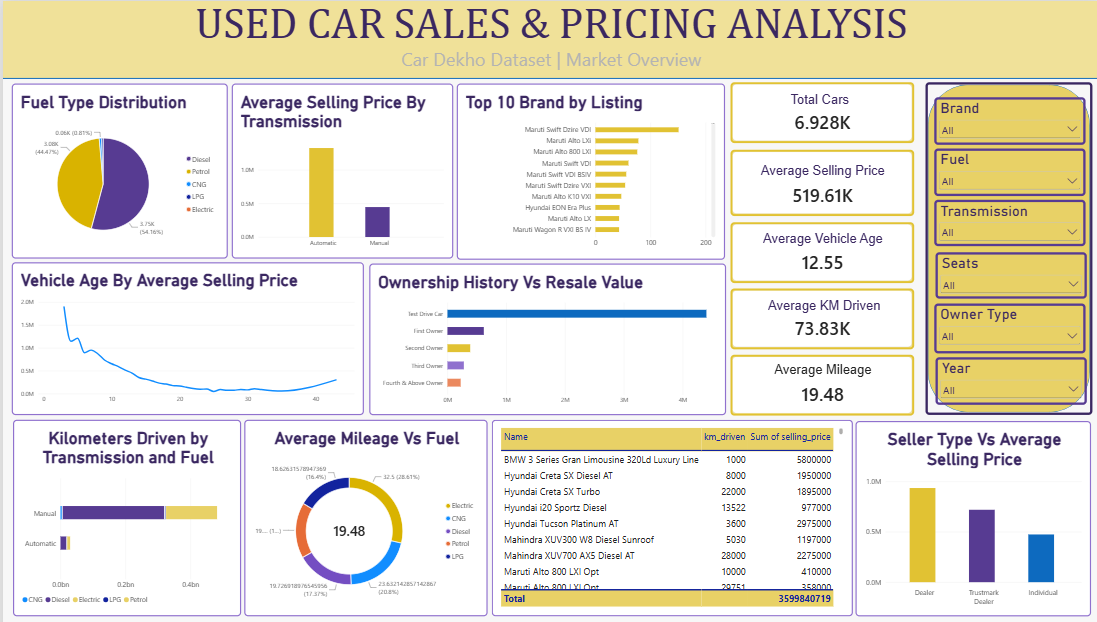

This screenshot's page, from the dashboard's own definition file:
{"tool":"powerbi","page":{"name":"Page 1","canvas":[2250,1300],"ordinal":0},"visuals":[{"type":"textbox","box":[0,0,2250.2,106.7],"z":0},{"type":"textbox","box":[0,91.5,2250.2,67.5],"z":1000},{"type":"cardVisual","fields":{"Data":["CountNonNull(Car_Dekho_cleaned (2).Name)"]},"box":[1493.2,167.5,376.4,124.9],"z":2000},{"type":"textbox","box":[1614.5,187.4,164.7,43.4],"z":3000},{"type":"cardVisual","fields":{"Data":["Avg(Car_Dekho_cleaned (2).selling_price)"]},"box":[1493.2,305.1,376.4,135.7],"z":4000},{"type":"textbox","box":[1505.9,334,352.9,81.4],"z":5000},{"type":"cardVisual","fields":{"Data":["Avg(Car_Dekho_cleaned (2).vehicle_age)"]},"box":[1493.2,453.4,376.4,124.9],"z":6000},{"type":"textbox","box":[1558.4,471.5,320.3,45.2],"z":7000},{"type":"cardVisual","fields":{"Data":["Avg(Car_Dekho_cleaned (2).km_driven)"]},"box":[1493.2,591,376.4,124.9],"z":8000},{"type":"textbox","box":[1569.2,610.9,300.4,43.4],"z":9000},{"type":"barChart","title":"Top 10 Brand by Listing","fields":{"Category":["Car_Dekho_cleaned (2).Name"],"Y":["CountNonNull(Car_Dekho_cleaned (2).Name)"]},"box":[931.8,168.2,550,361.4],"z":10000},{"type":"pieChart","title":"Fuel Type Distribution","fields":{"Category":["Car_Dekho_cleaned (2).fuel"],"Y":["CountNonNull(Car_Dekho_cleaned (2).Name)"]},"box":[18.2,170.5,443.2,359.1],"z":11000},{"type":"shape","box":[0,100.2,2250.2,117.6],"z":12000},{"type":"columnChart","title":"Average Selling Price By Transmission","fields":{"Category":["Car_Dekho_cleaned (2).transmission"],"Y":["Avg(Car_Dekho_cleaned (2).selling_price)"]},"box":[470.5,170.5,454.5,359.1],"z":13000},{"type":"shape","box":[1892.5,167.5,342.5,682.5],"z":14000},{"type":"slicer","fields":{"Values":["Car_Dekho_cleaned (2).Name"]},"box":[1910,197.5,310,97.5],"z":15000},{"type":"slicer","fields":{"Values":["Car_Dekho_cleaned (2).fuel"]},"box":[1910,302.5,310,97.5],"z":16000},{"type":"slicer","fields":{"Values":["Car_Dekho_cleaned (2).transmission"]},"box":[1910,407.5,310,95],"z":17000},{"type":"slicer","fields":{"Values":["Car_Dekho_cleaned (2).seats"]},"box":[1912.5,515,310,95],"z":18000},{"type":"slicer","fields":{"Values":["Car_Dekho_cleaned (2).owner"]},"box":[1910,620,310,102.5],"z":19000},{"type":"slicer","fields":{"Values":["Car_Dekho_cleaned (2).year"]},"box":[1912.5,730,310,97.5],"z":20000},{"type":"cardVisual","fields":{"Data":["Avg(Car_Dekho_cleaned (2).mileage)"]},"box":[1492.6,725.3,376.4,124.9],"z":21000},{"type":"textbox","box":[1581.9,740.6,228.7,56.6],"z":22000},{"type":"columnChart","title":"Seller Type Vs Average Selling Price","fields":{"Category":["Car_Dekho_cleaned (2).seller_type"],"Y":["Avg(Car_Dekho_cleaned (2).selling_price)"]},"box":[1749.2,860.4,483.6,400.8],"z":23000},{"type":"clusteredBarChart","title":"Ownership History Vs Resale Value","fields":{"Category":["Car_Dekho_cleaned (2).owner"],"Y":["Avg(Car_Dekho_cleaned (2).selling_price)"]},"box":[750,538.6,731.8,311.4],"z":24000},{"type":"lineChart","title":"Vehicle Age By Average Selling Price ","fields":{"Category":["Car_Dekho_cleaned (2).vehicle_age"],"Y":["Avg(Car_Dekho_cleaned (2).selling_price)"]},"box":[18.2,536.4,722.7,313.6],"z":25000},{"type":"tableEx","fields":{"Values":["Car_Dekho_cleaned (2).Name","Car_Dekho_cleaned (2).km_driven","Sum(Car_Dekho_cleaned (2).selling_price)"]},"box":[1002,858.2,740.6,403],"z":26000},{"type":"donutChart","title":"Average Mileage Vs Fuel","fields":{"Category":["Car_Dekho_cleaned (2).fuel"],"Y":["Avg(Car_Dekho_cleaned (2).mileage)"]},"box":[494.5,858.2,498.8,403],"z":27000},{"type":"barChart","title":"Kilometers Driven by Transmission and Fuel","fields":{"Category":["Car_Dekho_cleaned (2).transmission"],"Series":["Car_Dekho_cleaned (2).fuel"],"Y":["Sum(Car_Dekho_cleaned (2).km_driven)"]},"box":[19.6,858.2,468.3,403],"z":28000}]}

Visuals, with their boxes in screenshot pixels (x1, y1, x2, y2), scaled from the page's 2250x1300 canvas onto the 1097x622 screenshot:
textbox: bbox(0, 0, 1096, 51)
textbox: bbox(0, 44, 1096, 76)
cardVisual - CountNonNull(Car_Dekho_cleaned (2).Name): bbox(728, 80, 912, 140)
textbox: bbox(787, 90, 867, 110)
cardVisual - Avg(Car_Dekho_cleaned (2).selling_price): bbox(728, 146, 912, 211)
textbox: bbox(734, 160, 906, 199)
cardVisual - Avg(Car_Dekho_cleaned (2).vehicle_age): bbox(728, 217, 912, 277)
textbox: bbox(760, 226, 916, 247)
cardVisual - Avg(Car_Dekho_cleaned (2).km_driven): bbox(728, 283, 912, 343)
textbox: bbox(765, 292, 912, 313)
"Top 10 Brand by Listing" barChart: bbox(454, 80, 722, 253)
"Fuel Type Distribution" pieChart: bbox(9, 82, 225, 253)
shape: bbox(0, 48, 1096, 104)
"Average Selling Price By Transmission" columnChart: bbox(229, 82, 451, 253)
shape: bbox(923, 80, 1090, 407)
slicer - Car_Dekho_cleaned (2).Name: bbox(931, 94, 1082, 141)
slicer - Car_Dekho_cleaned (2).fuel: bbox(931, 145, 1082, 191)
slicer - Car_Dekho_cleaned (2).transmission: bbox(931, 195, 1082, 240)
slicer - Car_Dekho_cleaned (2).seats: bbox(932, 246, 1084, 292)
slicer - Car_Dekho_cleaned (2).owner: bbox(931, 297, 1082, 346)
slicer - Car_Dekho_cleaned (2).year: bbox(932, 349, 1084, 396)
cardVisual - Avg(Car_Dekho_cleaned (2).mileage): bbox(728, 347, 911, 407)
textbox: bbox(771, 354, 883, 381)
"Seller Type Vs Average Selling Price" columnChart: bbox(853, 412, 1089, 603)
"Ownership History Vs Resale Value" clusteredBarChart: bbox(366, 258, 722, 407)
"Vehicle Age By Average Selling Price " lineChart: bbox(9, 257, 361, 407)
tableEx - Car_Dekho_cleaned (2).Name x Car_Dekho_cleaned (2).km_driven: bbox(489, 411, 850, 603)
"Average Mileage Vs Fuel" donutChart: bbox(241, 411, 484, 603)
"Kilometers Driven by Transmission and Fuel" barChart: bbox(10, 411, 238, 603)
